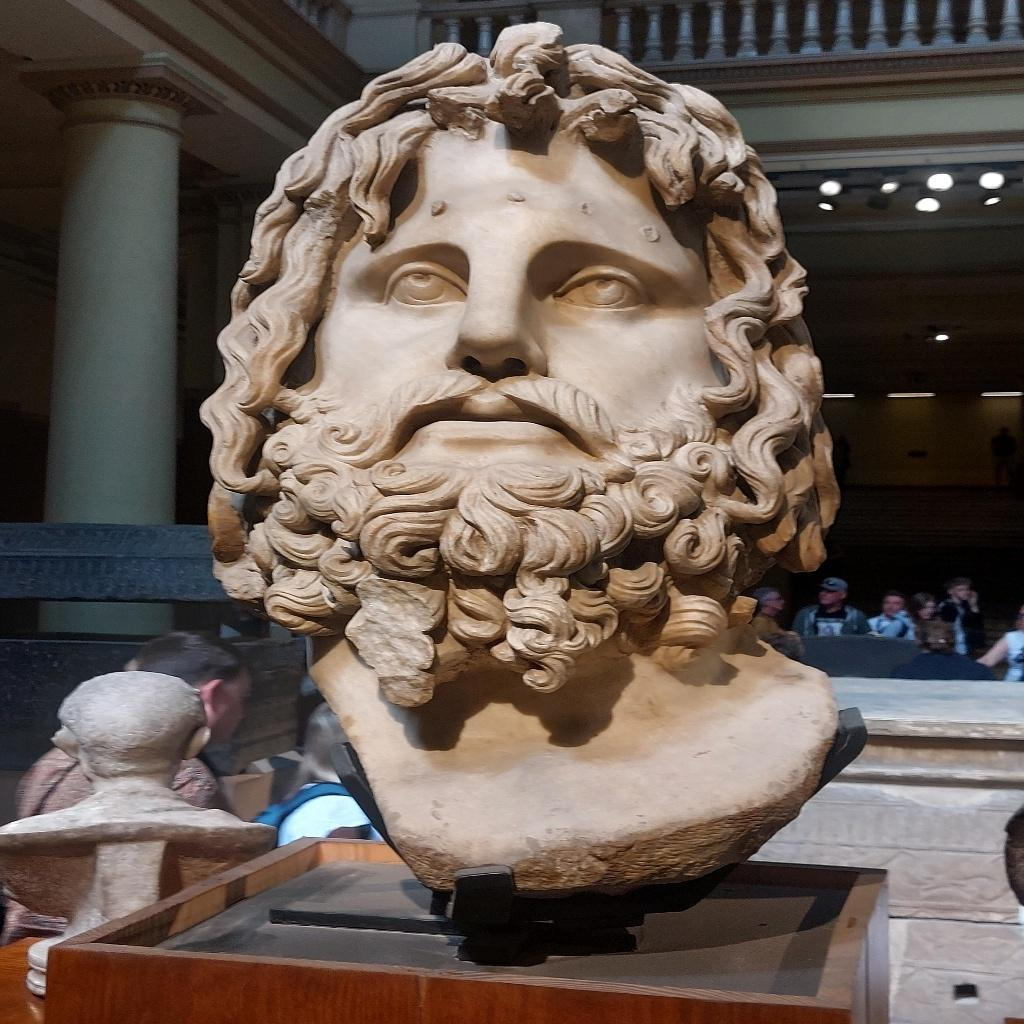Clossal Head of the god Serapis: (196, 19, 844, 901)
